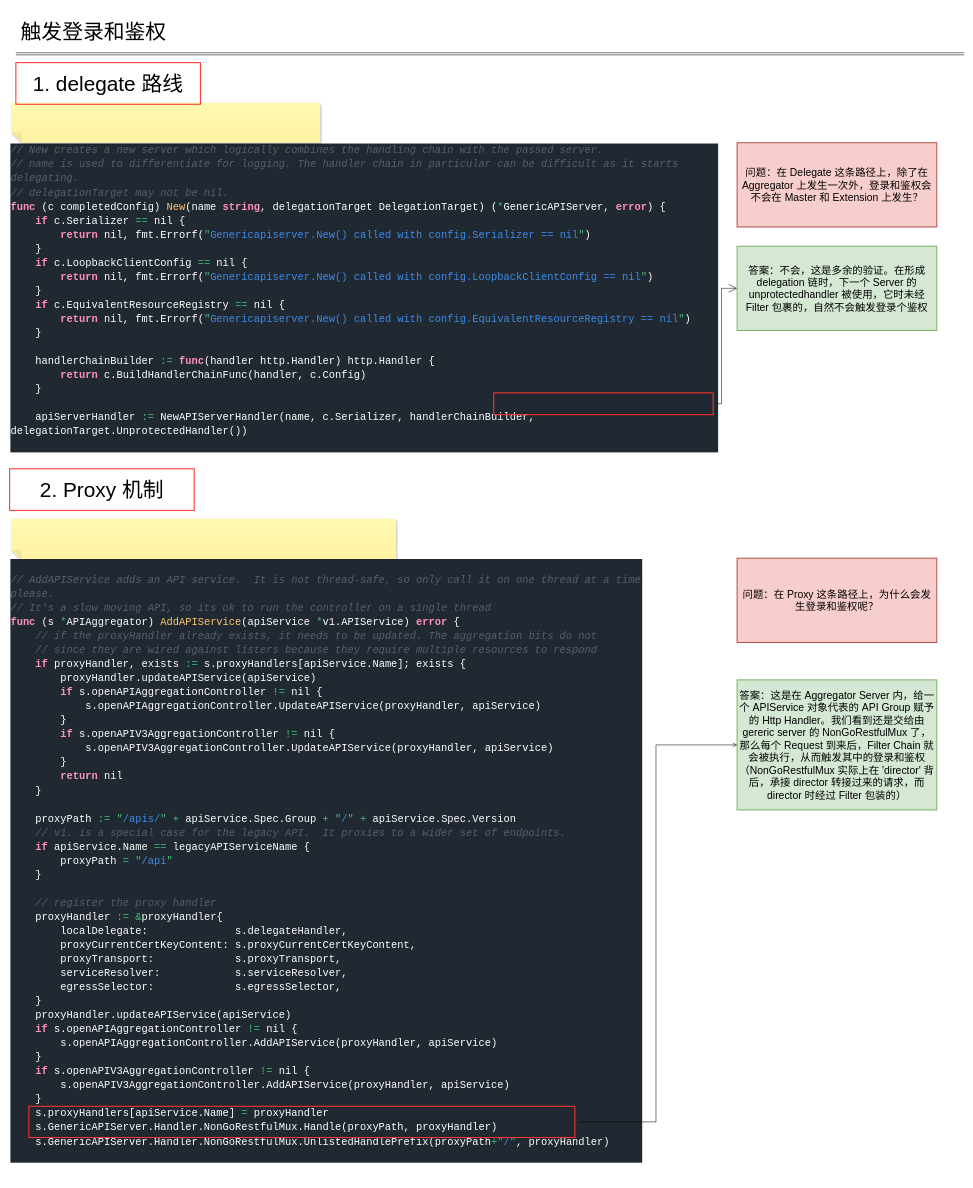
Image size: 973x1188. Some labels were removed from this diagram. The centre of each missing label's shape, as x and y in pixels:
"staging/src/k8s.io/apiserver/pkg/server/config.go" belongs at [166,123].
"staging/src/k8s.io/kube-aggregator/pkg/apiserver/apiserver.go" belongs at [204,540].
